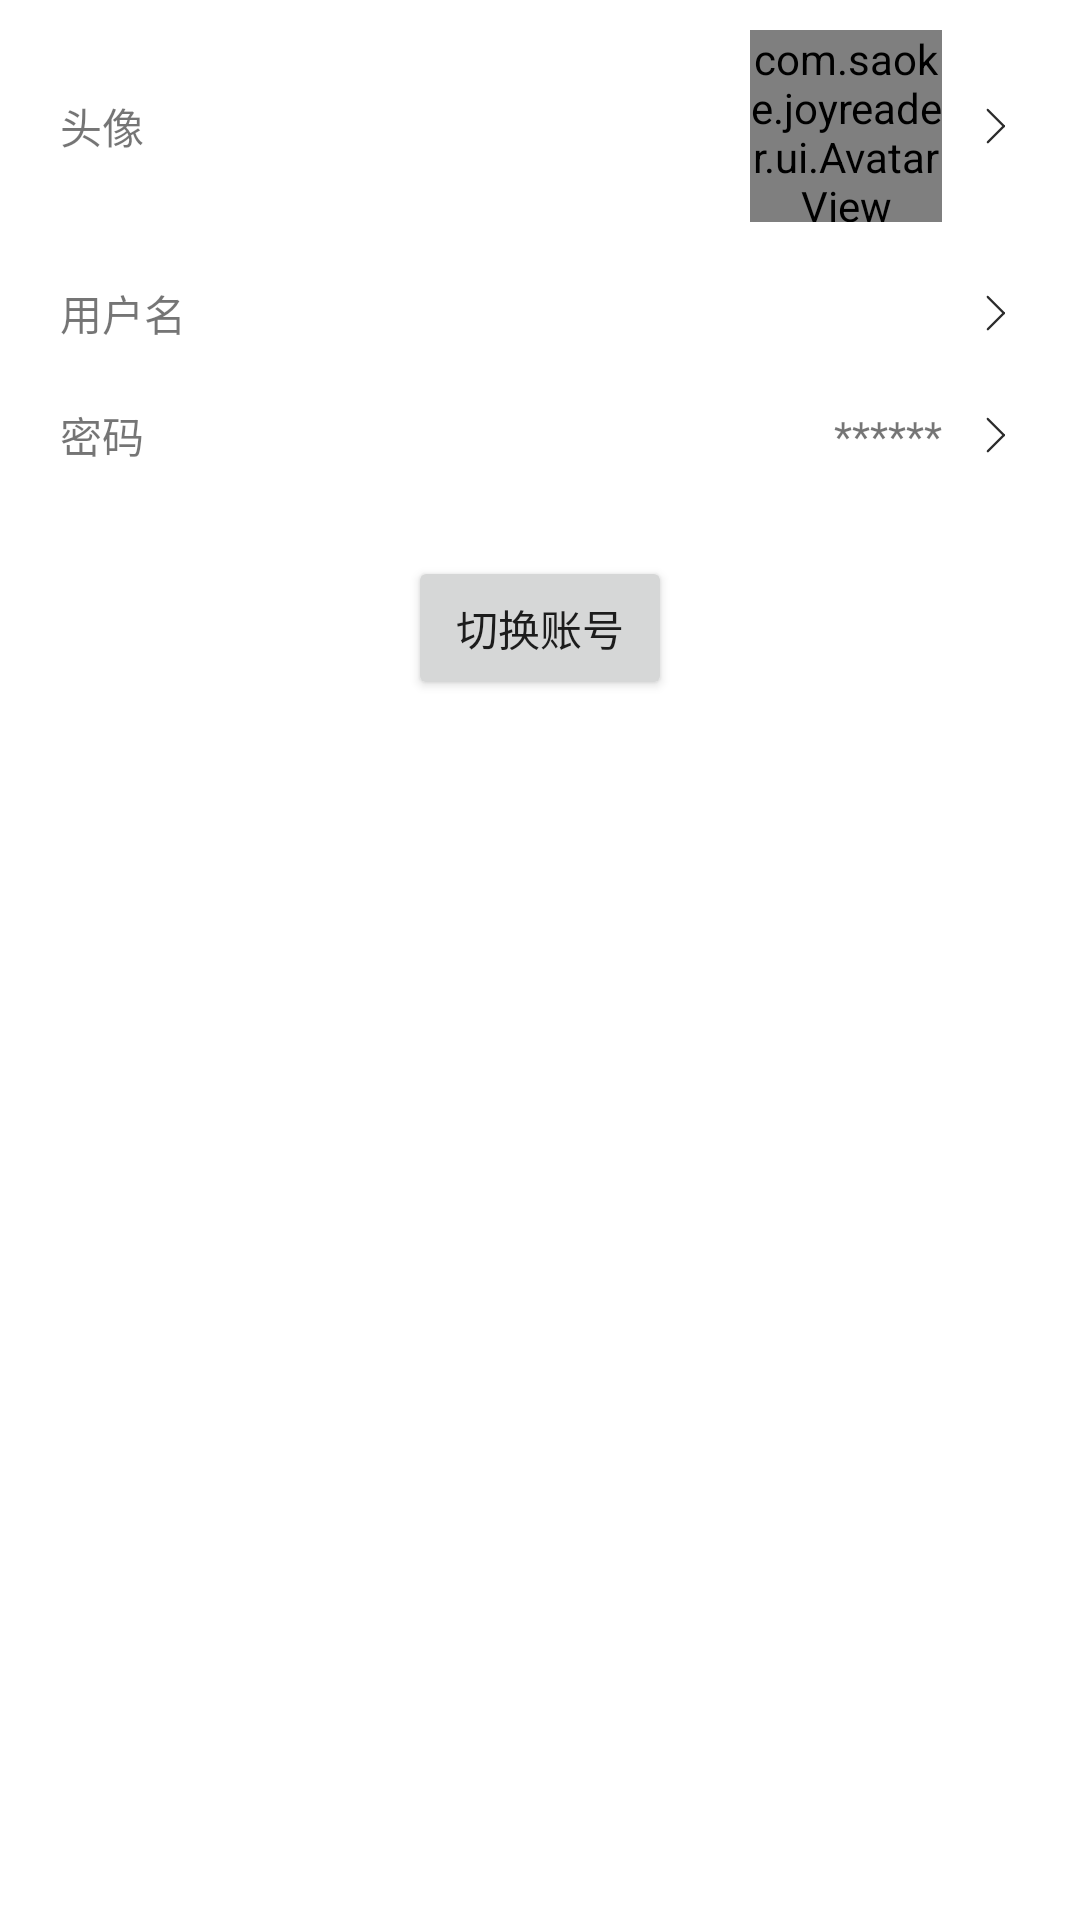

Where to tap for icons on this 1080x1920 app screen, as [x,y]:
arrow right: [995,126], [995,313], [995,435]
